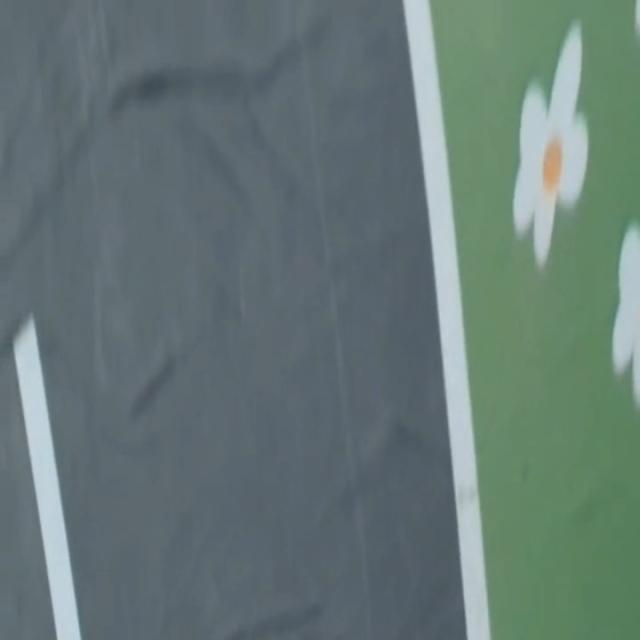center: (13, 318, 81, 639)
right: (404, 0, 491, 639)
